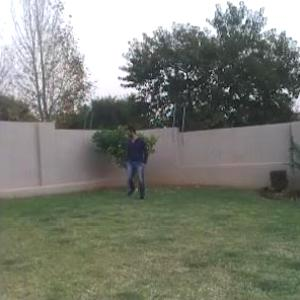follow: (125, 122, 149, 202)
